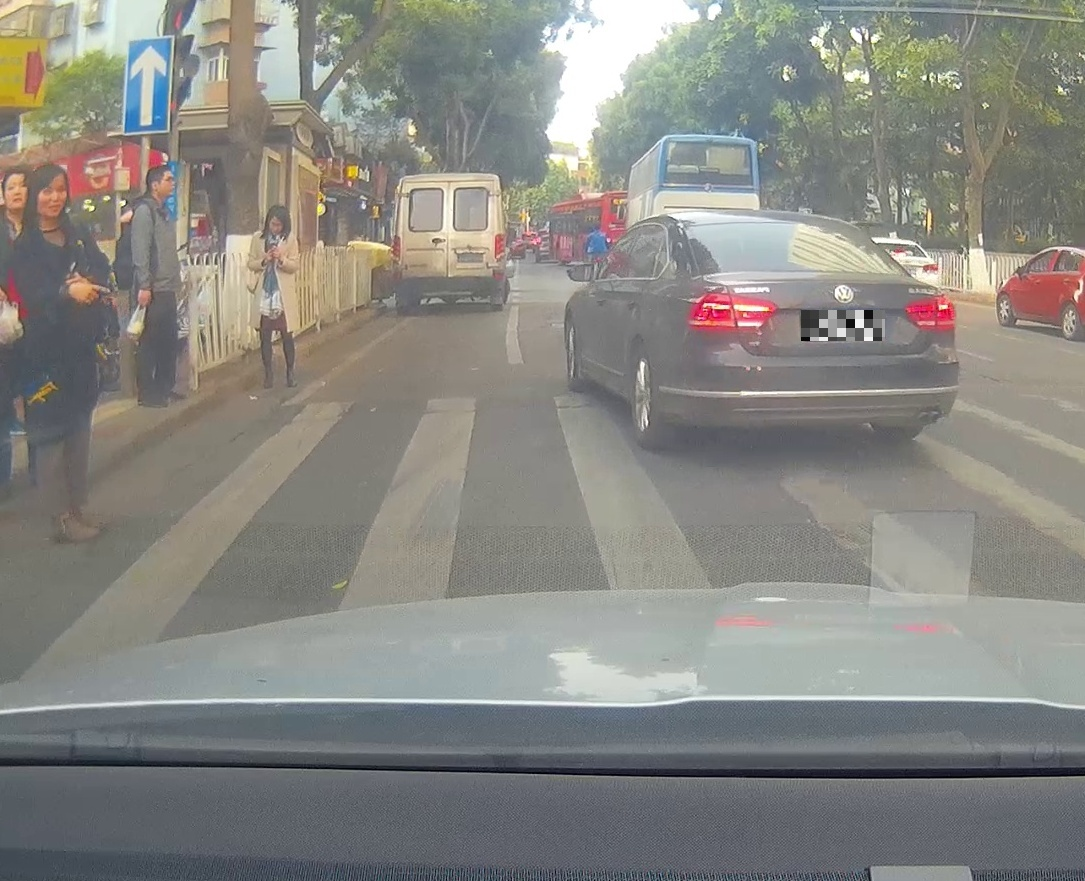L_light: (687, 292, 778, 331), (390, 234, 402, 265)
R_light: (903, 293, 955, 331), (494, 234, 505, 263)
T_light: (786, 225, 817, 234), (439, 184, 464, 192)
day-no: (679, 211, 959, 451), (388, 172, 506, 312)
plate_1: (801, 310, 885, 341)
